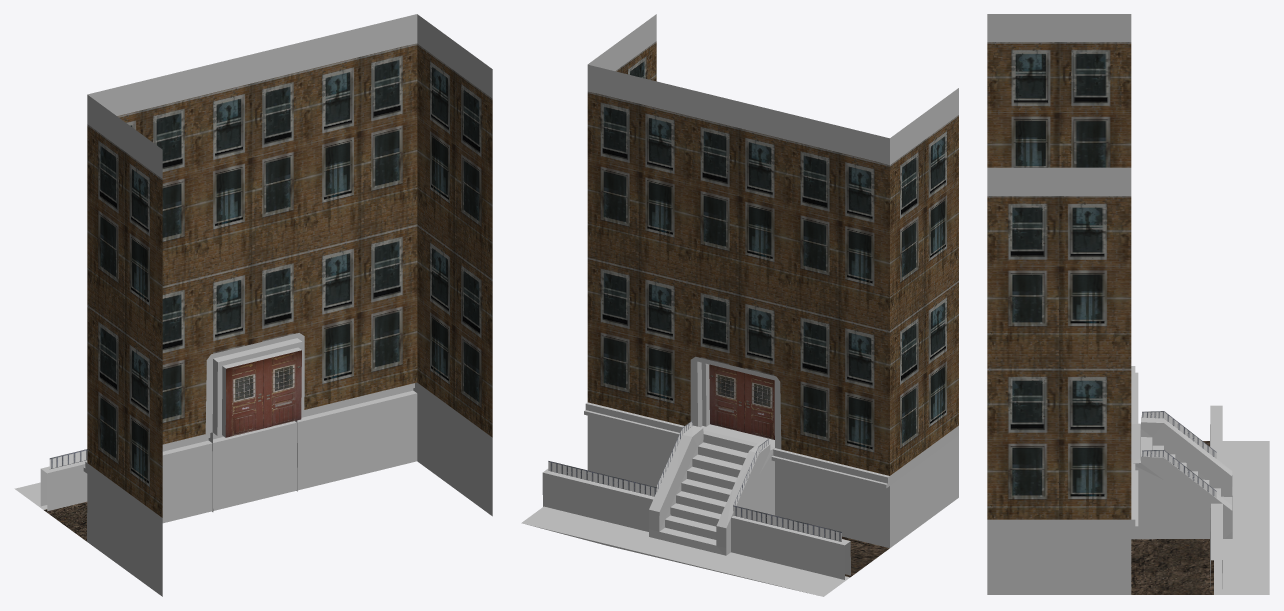
The model's file is Background_Building_6.fbx.
3 views of the same model, side by side, from view 1: azimuth 30°, elevation 25°; view 2: azimuth 150°, elevation 25°; view 3: azimuth 270°, elevation 25° (orthographic). The views are drawn at different scales.
Parts seen in each view (by area): view 1: Background_Building_6; view 2: Background_Building_6; view 3: Background_Building_6.
Part boxes in pixels (x1=…): Background_Building_6: x1=14, y1=14, x2=492, y2=596; Background_Building_6: x1=521, y1=14, x2=958, y2=596; Background_Building_6: x1=987, y1=14, x2=1269, y2=594.
Size of the model in its own units: 1780 by 2306 by 1377.
